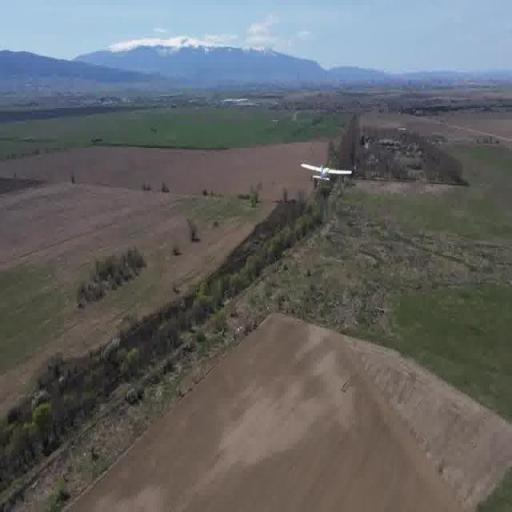uav: (299, 157, 354, 192)
